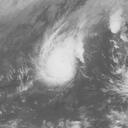cyclone: (38, 34, 82, 87)
